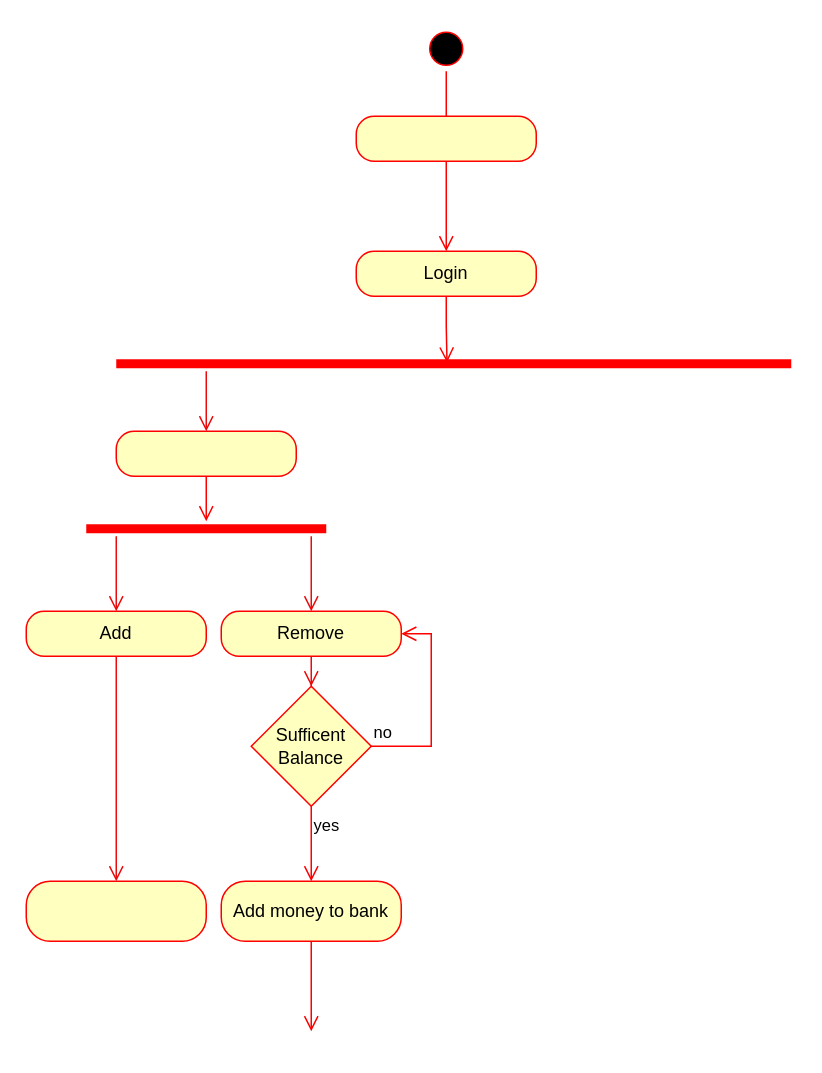
The diagram is 822 pixels wide and 1073 high, and some of its shapes have lost their labels. The shapes that lost their labels are listed below. From the top down, each one's centre as x and y in pixels, then its label:
At pixel 445 138: "Open Application".
At pixel 205 453: "Coin".
At pixel 115 910: "Remove money to bank".
